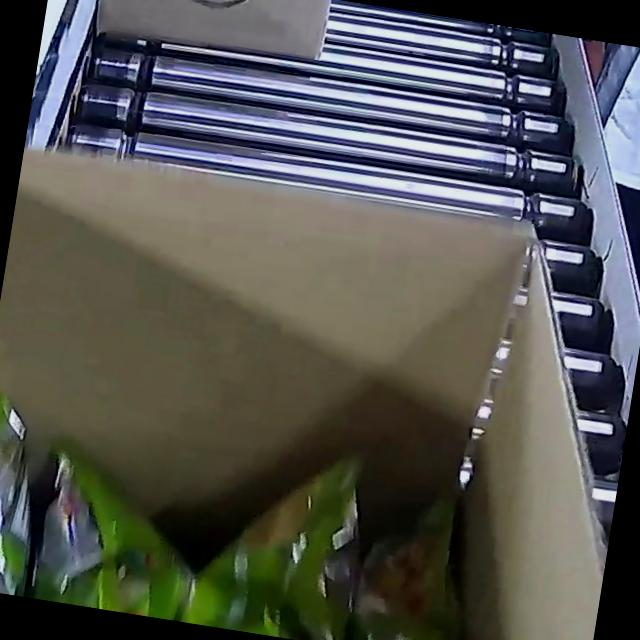yogurt: (0, 384, 502, 640)
